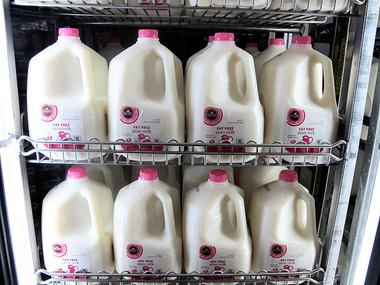milk: (29, 29, 107, 159), (109, 27, 184, 161), (188, 38, 267, 155), (37, 167, 118, 277), (267, 35, 345, 149), (184, 170, 254, 280), (114, 170, 185, 273), (253, 171, 320, 276)
